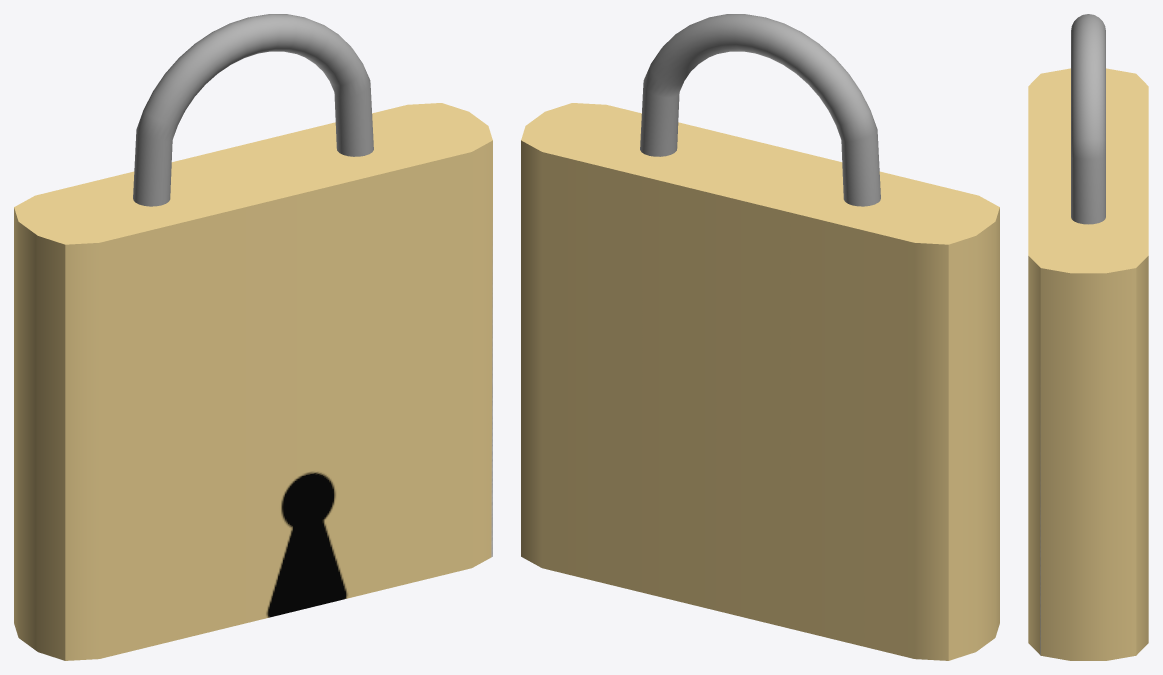
The model's file is lock.fbx.
3 views of the same model, side by side, from view 1: azimuth 30°, elevation 25°; view 2: azimuth 150°, elevation 25°; view 3: azimuth 270°, elevation 25° (orthographic). The views are drawn at different scales.
Visible parts, largest first — view 1: pCube1, pCylinder1; view 2: pCube1, pCylinder1; view 3: pCube1, pCylinder1.
Boxes of the visible parts, <box> form: pCube1: <box>14,103,492,660</box>; pCylinder1: <box>133,14,373,206</box>; pCube1: <box>521,103,999,660</box>; pCylinder1: <box>640,14,880,206</box>; pCube1: <box>1028,68,1148,660</box>; pCylinder1: <box>1071,14,1105,224</box>.
Bounding box in the file's own units: 0.1388 × 0.1683 × 0.0344.
Materials: 1 (1 with a texture image).
